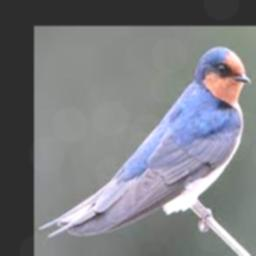Swallow: (38, 47, 250, 238)
